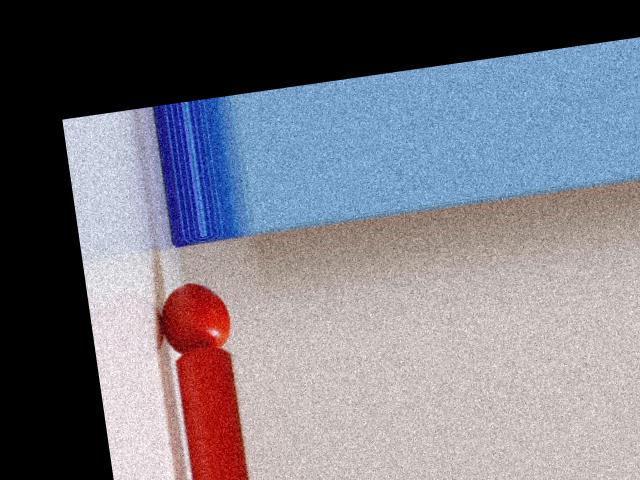tomato: (156, 278, 233, 355)
